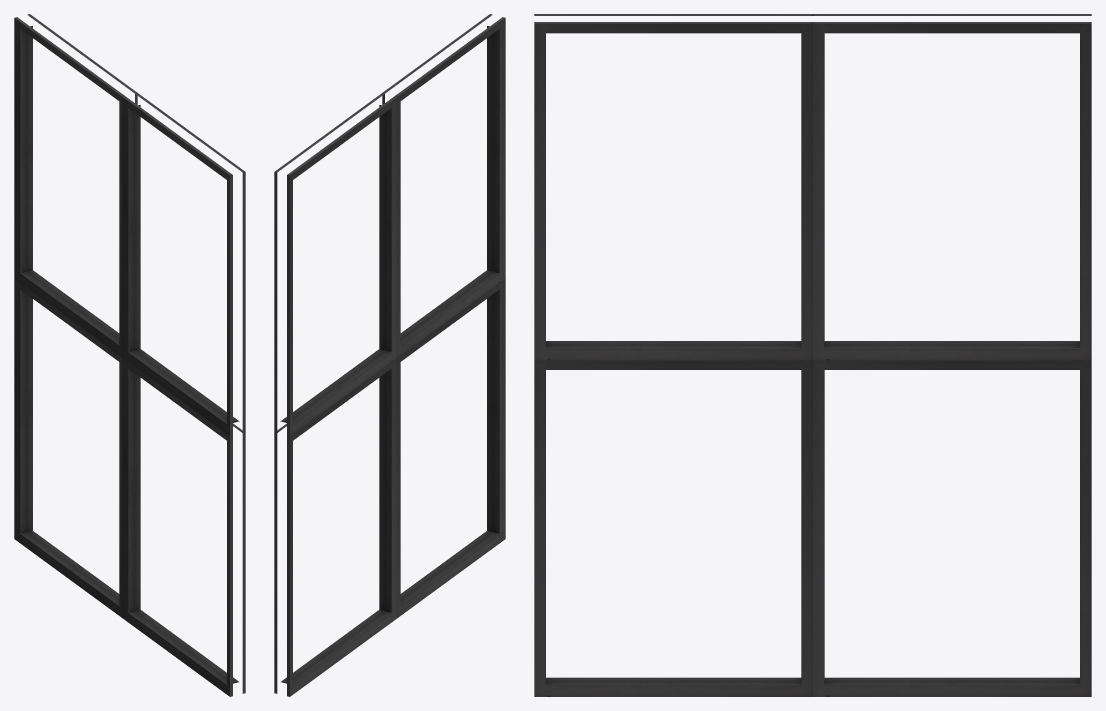
3 views of the same model, side by side, from view 1: azimuth 30°, elevation 25°; view 2: azimuth 150°, elevation 25°; view 3: azimuth 270°, elevation 25° (orthographic). The views are drawn at different scales.
Visible parts, largest first — view 1: body0_model0_lod0_mesh0; view 2: body0_model0_lod0_mesh0; view 3: body0_model0_lod0_mesh0.
Boxes of the visible parts, <box> form: body0_model0_lod0_mesh0: <box>14,14,245,696</box>; body0_model0_lod0_mesh0: <box>274,14,505,696</box>; body0_model0_lod0_mesh0: <box>534,14,1091,696</box>.
Size of the model in its own units: 8 by 256 by 192.
1 material, 1 textured.
